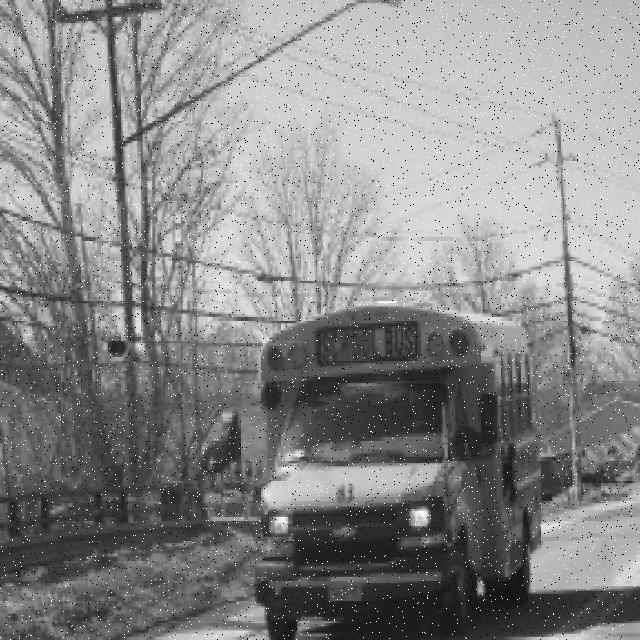Bus- Small: (201, 303, 542, 640)
